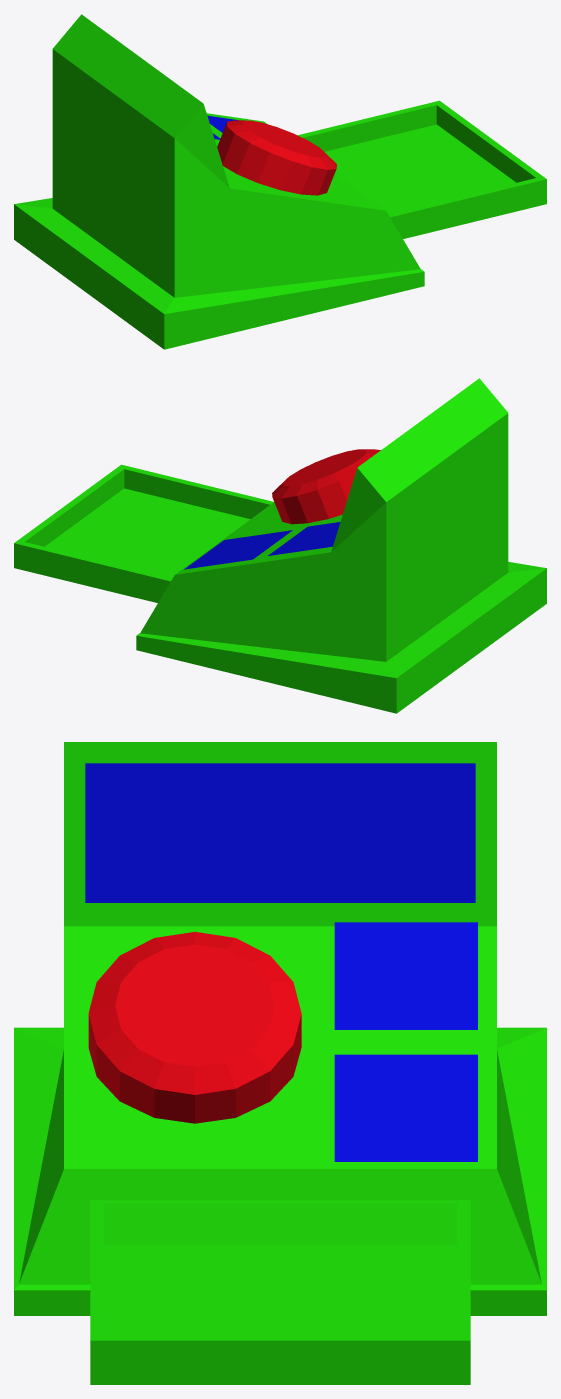
Rendered from Register.fbx.
The picture shows the model from 3 angles, top to bottom: view 1: azimuth 30°, elevation 25°; view 2: azimuth 150°, elevation 25°; view 3: azimuth 270°, elevation 25°; orthographic projection. The views are drawn at different scales.
Parts seen in each view (by area): view 1: Register, Register.Drawer, Register.Button; view 2: Register, Register.Drawer, Register.Button, Register.Key02, Register.Key01; view 3: Register, Register.Drawer, Register.Button, Register.Key01, Register.Key02.
Part boxes in pixels (left/top/right/bottom): Register: left=14, top=14, right=424, bottom=349; Register.Drawer: left=298, top=100, right=546, bottom=238; Register.Button: left=217, top=120, right=336, bottom=195; Register: left=136, top=378, right=546, bottom=713; Register.Drawer: left=14, top=464, right=273, bottom=602; Register.Button: left=272, top=449, right=380, bottom=524; Register.Key02: left=184, top=530, right=292, bottom=569; Register.Key01: left=268, top=522, right=340, bottom=555; Register: left=14, top=742, right=546, bottom=1315; Register.Drawer: left=90, top=1200, right=470, bottom=1384; Register.Button: left=88, top=932, right=301, bottom=1123; Register.Key01: left=334, top=922, right=477, bottom=1029; Register.Key02: left=334, top=1054, right=477, bottom=1161.
Bounding box in the file's own units: 155 × 81.78 × 100.
